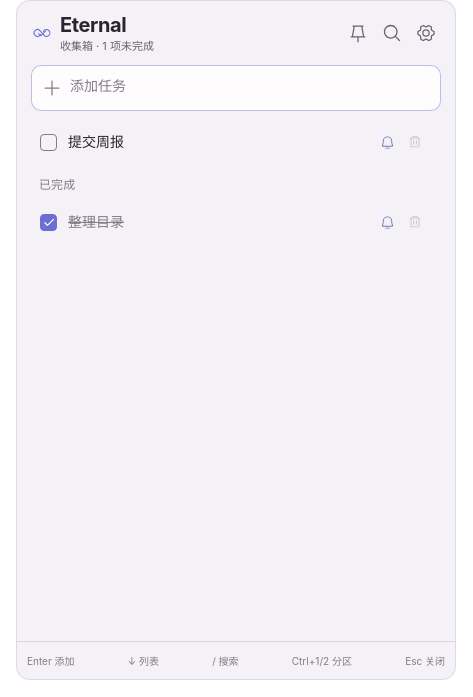
Scenario: Eternal task panel › keeps the prior pin state and reports a failed save
The image size is (473, 697).
Click the button named "固定面板". click: (358, 33)
box: [343,18,373,48]
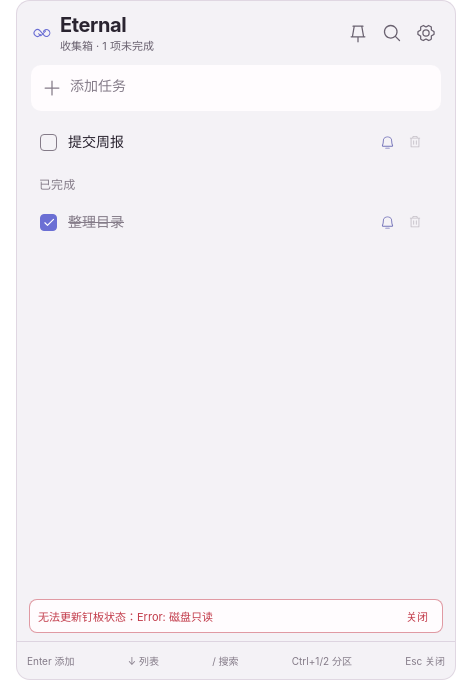
Expected: the text "无法更新钉板状态：Error: 磁盘只读" is shown, [38,608,213,624]
